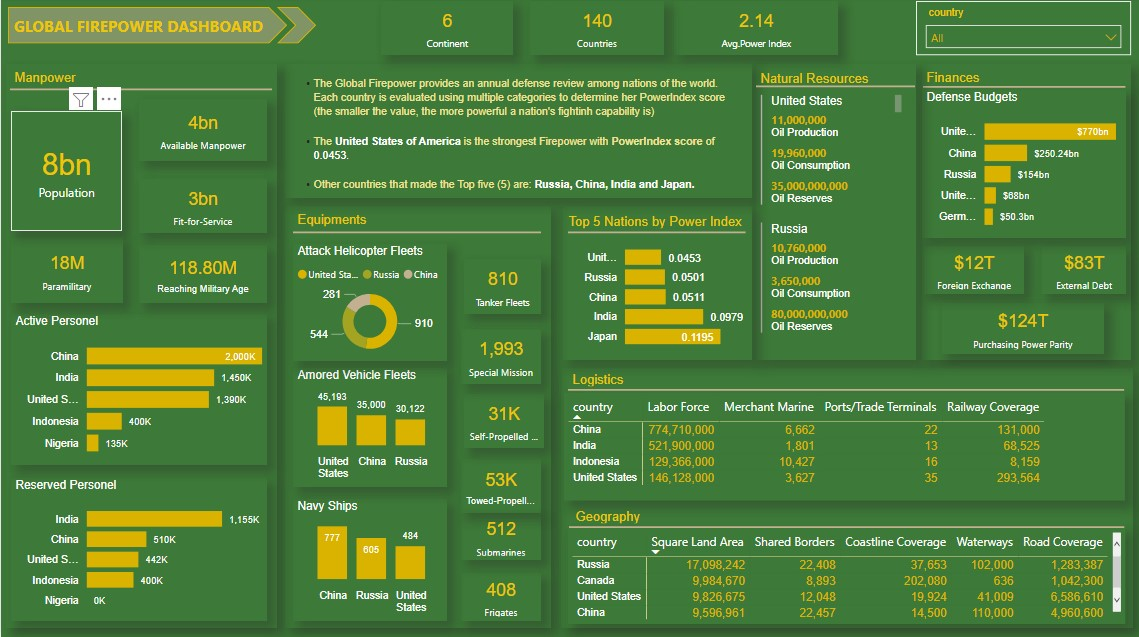

Layout of this report page (visuals, bound fields, positions):
{"tool":"powerbi","page":{"name":"Page 1","canvas":[1280,720],"ordinal":0},"visuals":[{"type":"shape","box":[7.9,11.2,313.9,40.5],"z":0},{"type":"shape","box":[310.5,11.2,43.9,40.5],"z":1000},{"type":"shape","box":[5.6,75.4,304.9,634.5],"z":2000},{"type":"shape","box":[319.5,235.1,299.2,474.8],"z":3000},{"type":"shape","box":[10.1,97.9,294.8,12.4],"z":4000},{"type":"textbox","title":"Manpower","box":[10.1,82.1,289.1,24.8],"z":5000},{"type":"card","title":"Population","fields":{"Values":["All Measures.Total Population"]},"box":[11.2,128.2,124.9,135],"z":6000},{"type":"card","title":"Population","fields":{"Values":["All Measures.Available Manpower"]},"box":[155.2,114.8,144,69.8],"z":7000},{"type":"card","title":"Population","fields":{"Values":["All Measures.Fit-for-Service"]},"box":[155.2,204.8,144,60.8],"z":8000},{"type":"card","title":"Population","fields":{"Values":["All Measures.Paramilitary"]},"box":[11.2,271.1,126,73.1],"z":9000},{"type":"card","title":"Population","fields":{"Values":["All Measures.Reaching Military Age"]},"box":[155.2,279,144,65.2],"z":10000},{"type":"slicer","fields":{"Values":["global firepower 2022 wide.country"]},"box":[1029.4,4.5,241.9,60.8],"z":11000},{"type":"barChart","title":"Active Personel","fields":{"Y":["All Measures.Active Personel"],"Category":["global firepower 2022 wide.country"]},"box":[11.2,356.6,288,169.9],"z":12000},{"type":"barChart","title":"Reserved Personel","fields":{"Y":["All Measures.Reserve Personel"],"Category":["global firepower 2022 wide.country"]},"box":[11.2,541.1,288,160.9],"z":13000},{"type":"textbox","title":"Equipments","box":[328.5,241.9,300.4,16.9],"z":14000},{"type":"shape","box":[328.5,255.4,279,19.1],"z":15000},{"type":"card","title":"Population","fields":{"Values":["All Measures.Tanker Fleets"]},"box":[520.9,294.8,86.6,61.9],"z":16000},{"type":"card","title":"Population","fields":{"Values":["All Measures.Special Mission"]},"box":[517.5,373.5,90,61.9],"z":17000},{"type":"card","title":"Population","fields":{"Values":["All Measures.Self-Propelled Artillery"]},"box":[520.9,446.6,90,60.8],"z":18000},{"type":"card","title":"Population","fields":{"Values":["All Measures.Towed-Propelled Artillery"]},"box":[517.5,519.8,90,60.8],"z":19000},{"type":"columnChart","title":"Amored Vehicle Fleets","fields":{"Y":["All Measures.Armored Vehicle"],"Category":["global firepower 2022 wide.country"]},"box":[328.5,417.4,173.2,133.9],"z":20000},{"type":"columnChart","title":"Navy Ships","fields":{"Y":["All Measures.Navy Ships"],"Category":["global firepower 2022 wide.country"]},"box":[328.5,564.8,173.2,137.2],"z":21000},{"type":"card","title":"Population","fields":{"Values":["All Measures.Submarines"]},"box":[517.5,580.5,90,52.9],"z":22000},{"type":"donutChart","title":"Attack Helicopter Fleets","fields":{"Category":["global firepower 2022 wide.country"],"Y":["All Measures.Attack Helicopter"]},"box":[328.5,277.9,173.2,131.6],"z":23000},{"type":"card","title":"Population","fields":{"Values":["All Measures.Frigates"]},"box":[517.9,647.7,90,54],"z":24000},{"type":"card","title":"Population","fields":{"Values":["All Measures.Continent"]},"box":[427.5,4.5,148.5,60.8],"z":25000},{"type":"card","title":"Population","fields":{"Values":["All Measures.Countries"]},"box":[595.1,4.5,150.8,60.8],"z":26000},{"type":"card","title":"Population","fields":{"Values":["All Measures.Avg.Power Index"]},"box":[757.1,4.5,184.5,60.8],"z":27000},{"type":"shape","box":[1035.8,75.8,235.2,332.9],"z":28000},{"type":"barChart","title":"Defense Budgets","fields":{"Y":["All Measures.Defense Budget"],"Category":["global firepower 2022 wide.country"]},"box":[1035.8,104.1,228.8,167.1],"z":29000},{"type":"card","title":"Population","fields":{"Values":["All Measures.External Debt"]},"box":[1170.8,280.2,95.1,54],"z":30000},{"type":"card","title":"Population","fields":{"Values":["All Measures.Foreign Exchange"]},"box":[1038.4,280.2,113.1,54],"z":31000},{"type":"card","title":"Population","fields":{"Values":["All Measures.Purchasing Power Parity"]},"box":[1059,344.4,182.5,56.5],"z":32000},{"type":"textbox","title":"Finances","box":[1036.1,82.1,192.4,20.2],"z":33000},{"type":"shape","box":[1037.2,95.6,228.4,11.2],"z":34000},{"type":"shape","box":[629.7,417.7,642.6,293],"z":35000},{"type":"shape","box":[319.5,75.4,525.4,150.8],"z":36000},{"type":"shape","box":[849.4,94.5,178.9,12.4],"z":37000},{"type":"textbox","title":"Natural Resources","box":[849.4,83.2,154.1,18],"z":38000},{"type":"multiRowCard","fields":{"Values":["All Measures.Oil Production","All Measures.Oil Consumption","All Measures.Oil Reserves","global firepower 2022 wide.country"]},"box":[849.4,104.6,168.8,281.2],"z":39000},{"type":"shape","box":[849.5,75.8,179.9,332.9],"z":40000},{"type":"pivotTable","fields":{"Rows":["global firepower 2022 wide.country"],"Values":["All Measures.Labor Force","All Measures.Merchant Marine","All Measures.Ports/Trade Terminals","All Measures.Railway Coverage"]},"box":[633.6,445.9,631,120.8],"z":41000},{"type":"textbox","title":"Logistics","box":[637.4,421.5,192.8,19.3],"z":42000},{"type":"shape","box":[637.4,435.7,625.9,12.9],"z":43000},{"type":"pivotTable","fields":{"Values":["All Measures.Square Land Area","All Measures.Shared Borders","All Measures.Coastline Coverage","All Measures.Waterways","All Measures.Road Coverage"],"Rows":["global firepower 2022 wide.country"]},"box":[637.4,597.6,627.1,108],"z":44000},{"type":"textbox","title":"Geography","box":[641.3,575.7,192.8,19.3],"z":45000},{"type":"shape","box":[638.7,589.9,624.6,14.1],"z":46000},{"type":"barChart","fields":{"Category":["global firepower 2022 wide.country"],"Y":["All Measures.Avg.Power Index"]},"box":[637.4,262.2,204.3,142.7],"z":47000},{"type":"textbox","title":"Top 5 Nations by Power Index","box":[633.4,244.1,212.6,21.4],"z":48000},{"type":"shape","box":[637.9,258.8,200.2,12.4],"z":49000},{"type":"shape","box":[632.2,235.1,212.6,173.2],"z":50000},{"type":"textbox","box":[328.5,83.2,509.6,142.9],"z":51000}]}

Visuals, with their boxes in screenshot pixels (x1, y1, x2, y2), scaled from the page's 1280x720 canvas onto the 1139x637 screenshot:
shape: bbox(7, 10, 286, 46)
shape: bbox(276, 10, 315, 46)
shape: bbox(5, 67, 276, 628)
shape: bbox(284, 208, 551, 628)
shape: bbox(9, 87, 271, 98)
"Manpower" textbox: bbox(9, 73, 266, 95)
"Population" card: bbox(10, 113, 121, 233)
"Population" card: bbox(138, 102, 266, 163)
"Population" card: bbox(138, 181, 266, 235)
"Population" card: bbox(10, 240, 122, 305)
"Population" card: bbox(138, 247, 266, 305)
slicer - global firepower 2022 wide.country: bbox(916, 4, 1131, 58)
"Active Personel" barChart: bbox(10, 315, 266, 466)
"Reserved Personel" barChart: bbox(10, 479, 266, 621)
"Equipments" textbox: bbox(292, 214, 560, 229)
shape: bbox(292, 226, 541, 243)
"Population" card: bbox(464, 261, 541, 316)
"Population" card: bbox(460, 330, 541, 385)
"Population" card: bbox(464, 395, 544, 449)
"Population" card: bbox(460, 460, 541, 514)
"Amored Vehicle Fleets" columnChart: bbox(292, 369, 446, 488)
"Navy Ships" columnChart: bbox(292, 500, 446, 621)
"Population" card: bbox(460, 514, 541, 560)
"Attack Helicopter Fleets" donutChart: bbox(292, 246, 446, 362)
"Population" card: bbox(461, 573, 541, 621)
"Population" card: bbox(380, 4, 513, 58)
"Population" card: bbox(530, 4, 664, 58)
"Population" card: bbox(674, 4, 838, 58)
shape: bbox(922, 67, 1131, 362)
"Defense Budgets" barChart: bbox(922, 92, 1125, 240)
"Population" card: bbox(1042, 248, 1126, 296)
"Population" card: bbox(924, 248, 1025, 296)
"Population" card: bbox(942, 305, 1105, 355)
"Finances" textbox: bbox(922, 73, 1093, 91)
shape: bbox(923, 85, 1126, 94)
shape: bbox(560, 370, 1132, 629)
shape: bbox(284, 67, 752, 200)
shape: bbox(756, 84, 915, 95)
"Natural Resources" textbox: bbox(756, 74, 893, 90)
multiRowCard - All Measures.Oil Production x All Measures.Oil Consumption: bbox(756, 93, 906, 341)
shape: bbox(756, 67, 916, 362)
pivotTable - global firepower 2022 wide.country x All Measures.Labor Force: bbox(564, 394, 1125, 501)
"Logistics" textbox: bbox(567, 373, 739, 390)
shape: bbox(567, 385, 1124, 397)
pivotTable - All Measures.Square Land Area x All Measures.Shared Borders: bbox(567, 529, 1125, 624)
"Geography" textbox: bbox(571, 509, 742, 526)
shape: bbox(568, 522, 1124, 534)
barChart - global firepower 2022 wide.country x All Measures.Avg.Power Index: bbox(567, 232, 749, 358)
"Top 5 Nations by Power Index" textbox: bbox(564, 216, 753, 235)
shape: bbox(568, 229, 746, 240)
shape: bbox(563, 208, 752, 361)
textbox: bbox(292, 74, 746, 200)
